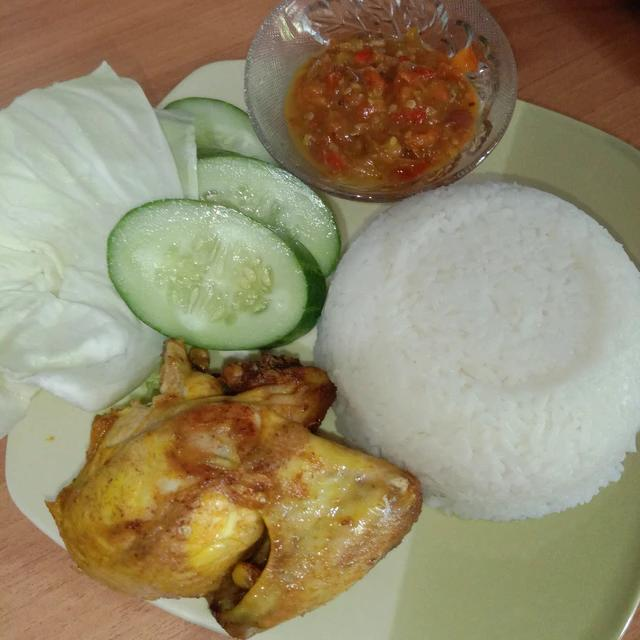ayam_goreng: (34, 354, 408, 618)
nasi_putih: (344, 186, 640, 512)
